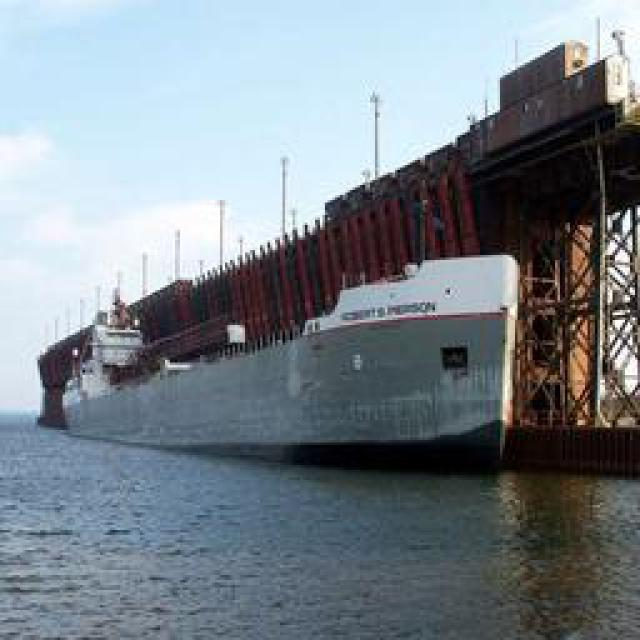Ship: (65, 259, 528, 464)
